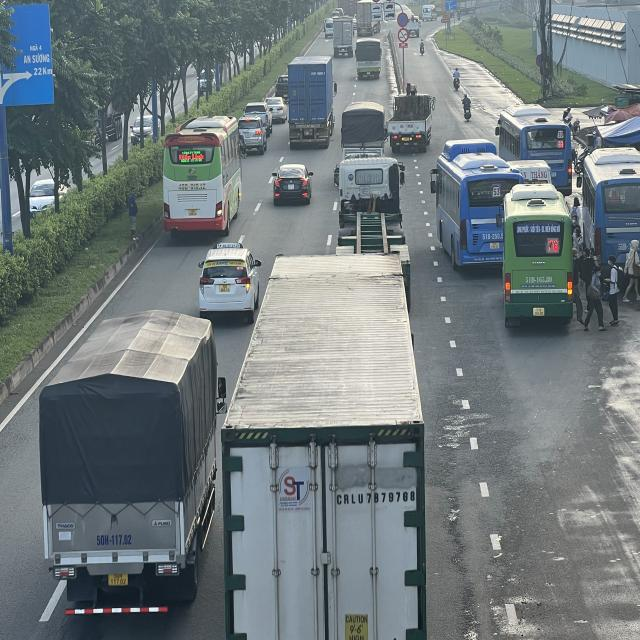car: (196, 243, 259, 320), (271, 166, 314, 208)
coach: (434, 142, 524, 273), (502, 183, 572, 326), (163, 115, 244, 235), (582, 150, 640, 274), (495, 105, 573, 177)
container: (222, 258, 422, 640), (335, 152, 409, 286), (287, 58, 335, 150)
truck: (41, 306, 227, 613), (390, 93, 436, 151), (341, 104, 386, 159), (353, 37, 382, 79), (334, 16, 356, 56)
